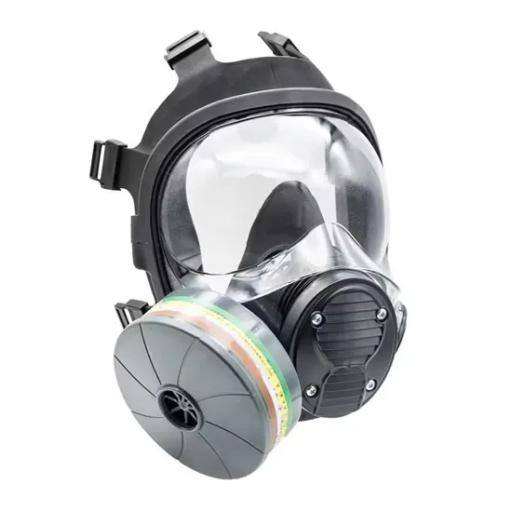mask: (81, 192, 453, 488)
